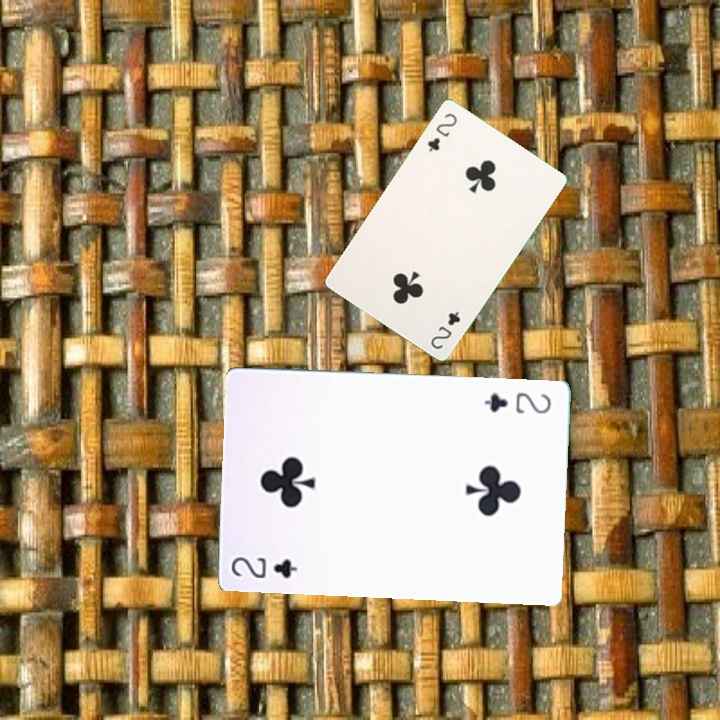2c: (227, 552, 301, 581), (480, 388, 554, 416), (423, 109, 460, 154), (426, 307, 463, 352)
